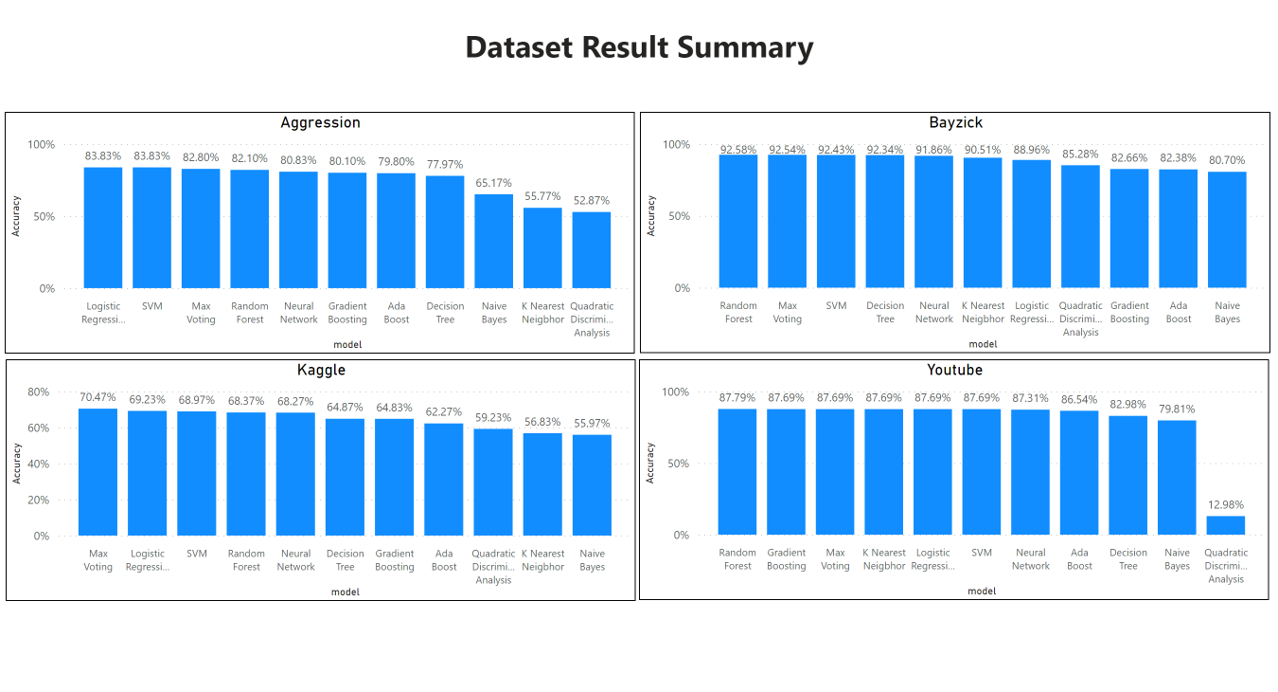

This screenshot's page, from the dashboard's own definition file:
{"tool":"powerbi","page":{"name":"Dataset Result Summary","canvas":[1350,720],"ordinal":1},"visuals":[{"type":"columnChart","title":"Aggression","fields":{"Category":["dataset results.model"],"Y":["Sum(dataset results.accuracy)"]},"box":[4.9,117.5,665.3,254.8],"z":0},{"type":"columnChart","title":"Bayzick","fields":{"Category":["dataset results.model"],"Y":["Sum(dataset results.accuracy)"]},"box":[676,118,665.8,254.4],"z":1000},{"type":"columnChart","title":"Youtube","fields":{"Category":["dataset results.model"],"Y":["Sum(dataset results.accuracy)"]},"box":[675.1,379.1,665.6,254.2],"z":2000},{"type":"columnChart","title":"Kaggle","fields":{"Category":["dataset results.model"],"Y":["Sum(dataset results.accuracy)"]},"box":[5.6,378.9,665.3,254.8],"z":3000},{"type":"textbox","box":[468.8,20.5,412.4,62.6],"z":4000}]}

Visuals, with their boxes in screenshot pixels (x1, y1, x2, y2), scaled from the page's 1350x720 canvas onto the 1278x692 screenshot:
"Aggression" columnChart: [5,113,634,358]
"Bayzick" columnChart: [640,113,1270,358]
"Youtube" columnChart: [639,364,1269,609]
"Kaggle" columnChart: [5,364,635,609]
textbox: [444,20,834,80]
